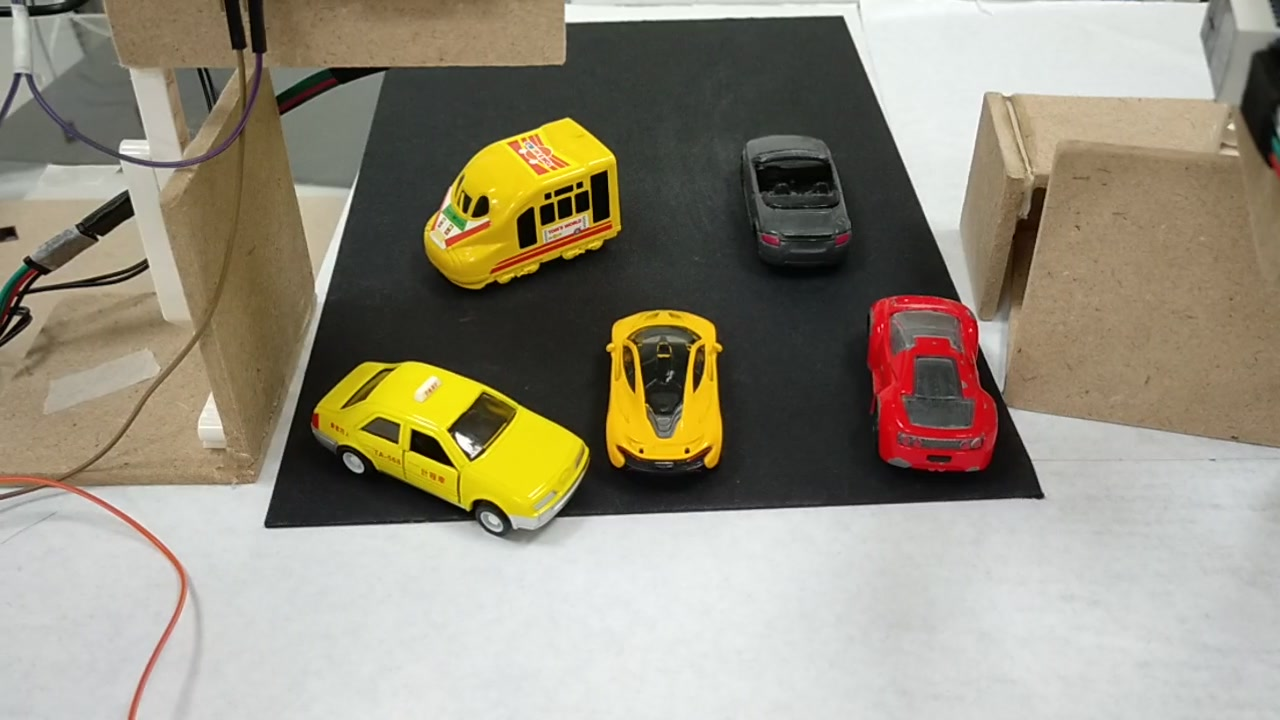car: (309, 353, 593, 542), (871, 297, 999, 476), (608, 316, 718, 470), (736, 136, 855, 269)
